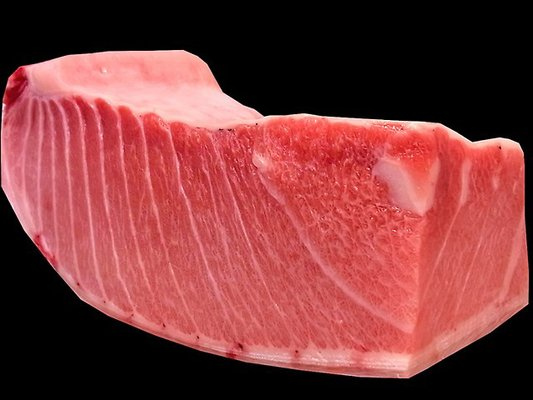taco: (1, 49, 526, 394)
